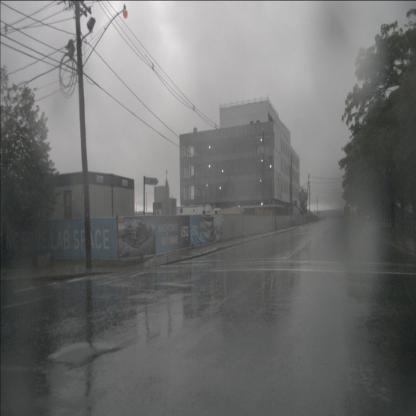vehicle-truck: (344, 206, 351, 222)
